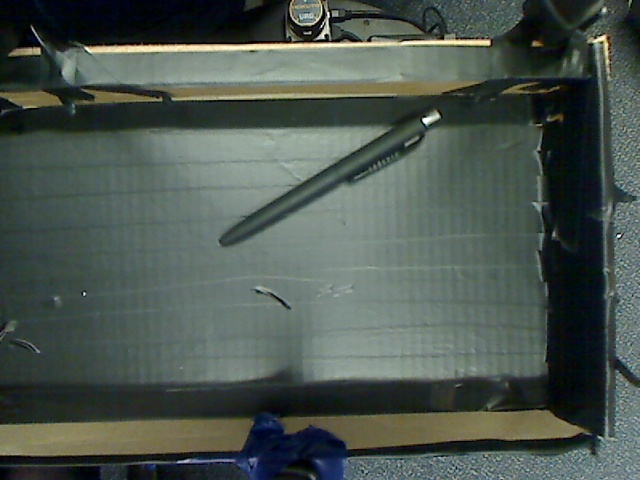pen: (204, 91, 464, 263)
